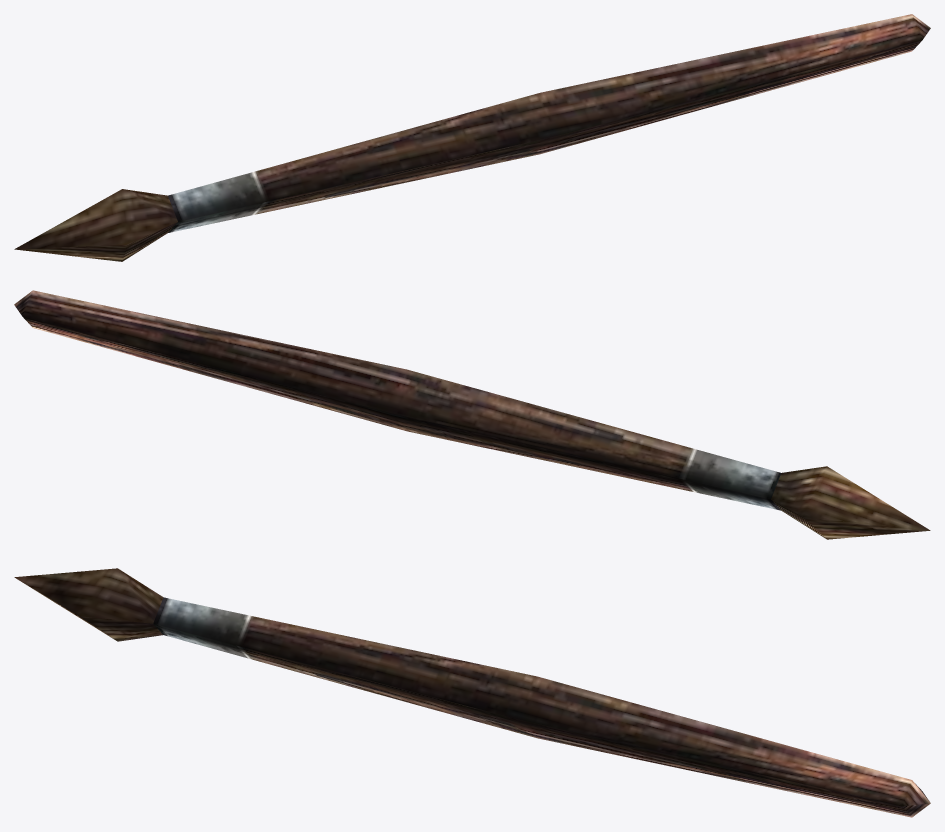
File: KM_VOB_BRUSH_01.glb
3 views of the same model, one above another, from view 1: azimuth 30°, elevation 25°; view 2: azimuth 150°, elevation 25°; view 3: azimuth 330°, elevation 25° (orthographic).
Visible parts, largest first — view 1: Mesh; view 2: Mesh; view 3: Mesh.
Part boxes in pixels (x1,y1,x2,y2): Mesh: (14, 14, 930, 261); Mesh: (14, 290, 930, 539); Mesh: (14, 568, 930, 817).
Size of the model in its own units: 0.3718 by 0.0283 by 0.0287.
2 materials, 2 textured.
